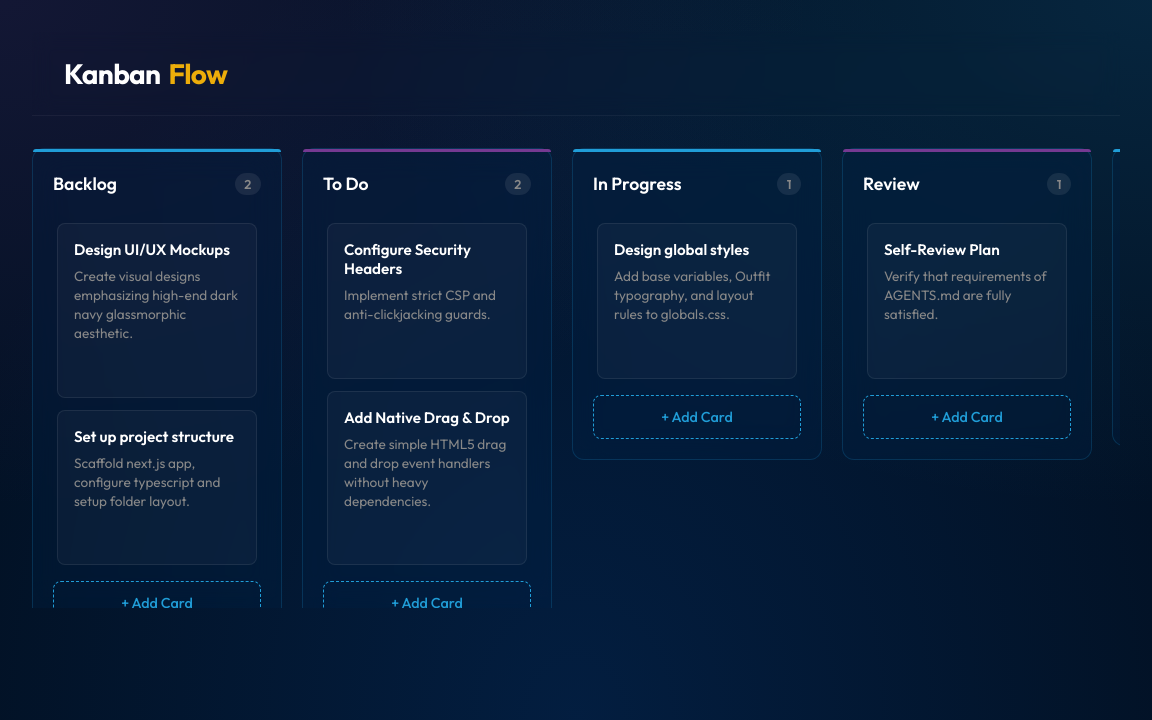
it: Kanban Board App › allows adding a new card to a column
This screenshot has width=1152, height=720.
Click the button "+ Add Card" below "Add Native Drag & Drop": (427, 603) x1=323 y1=581 x2=531 y2=625
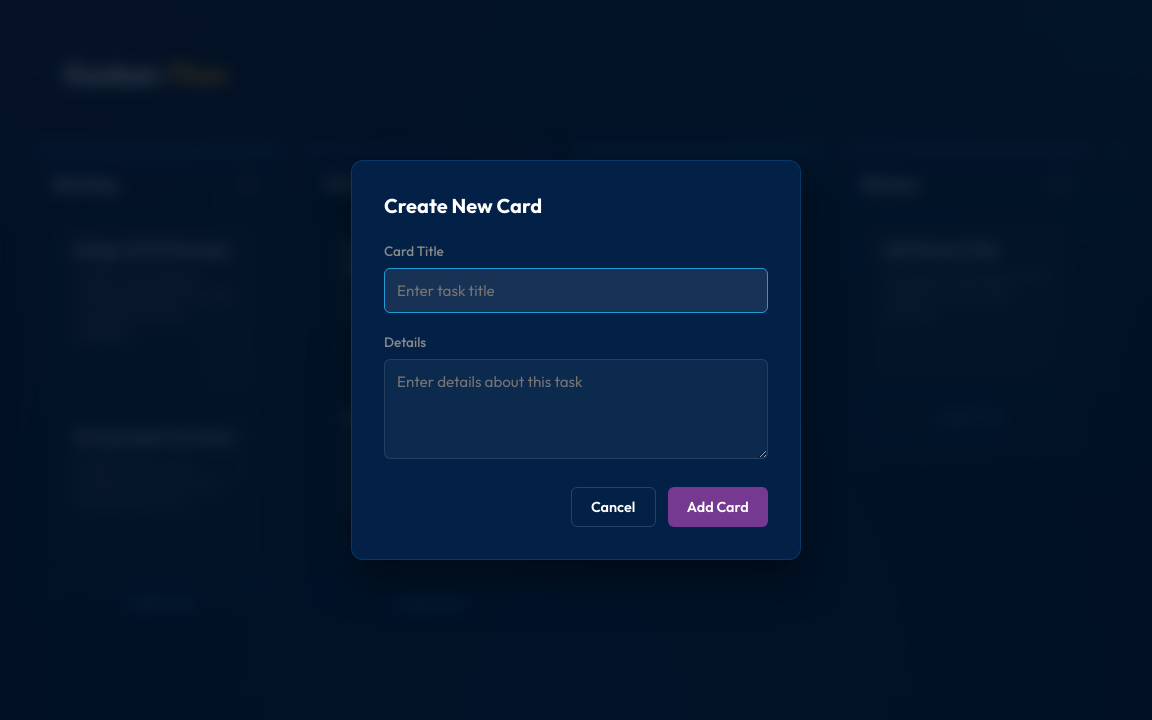
Expected: the heading "Create New Card" is shown, x1=384 y1=193 x2=542 y2=218
In the field labelled "Card Title": (576, 291) x1=384 y1=268 x2=768 y2=313, type "Verify Tests Run"
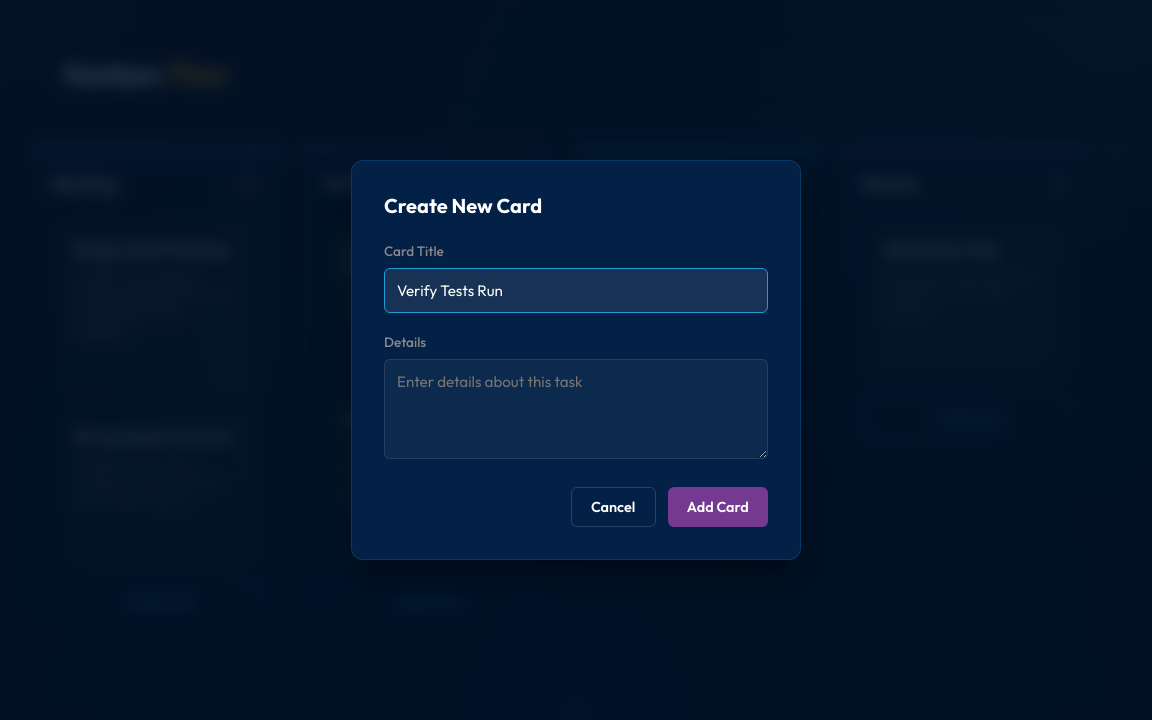
In the text box labelled "Details": (576, 409) x1=384 y1=359 x2=768 y2=459, type "Make sure all jest unit tests are passing."
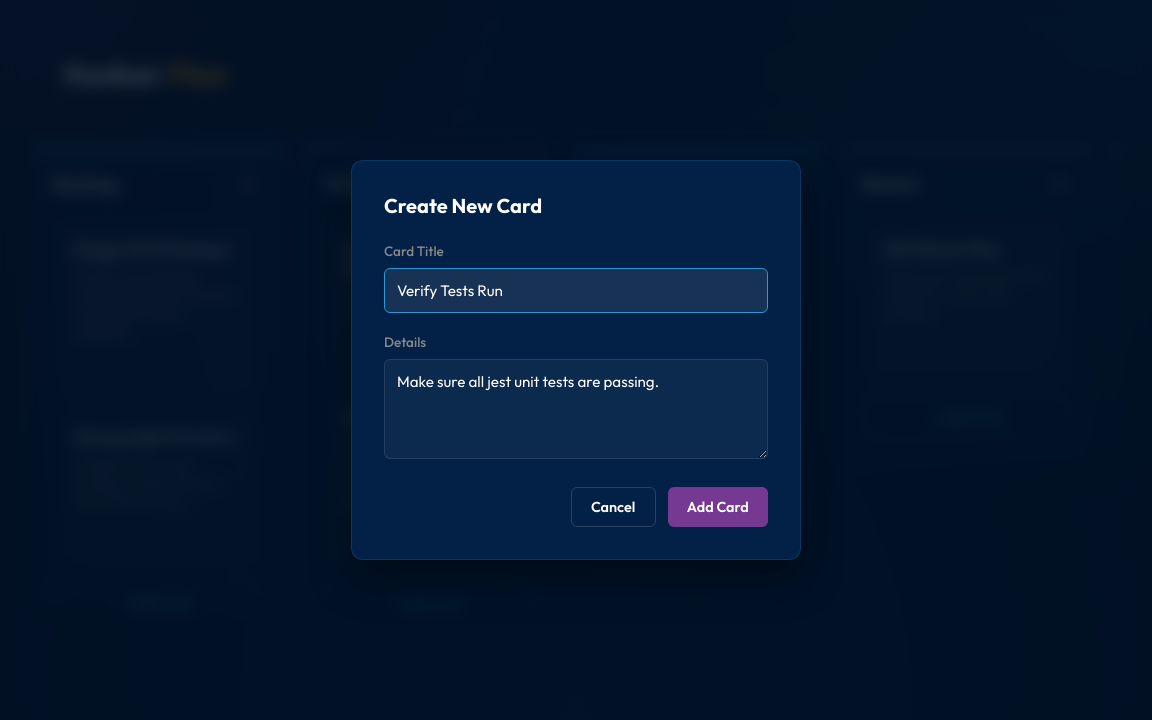
Click the button "Add Card": (718, 507) x1=668 y1=487 x2=768 y2=527
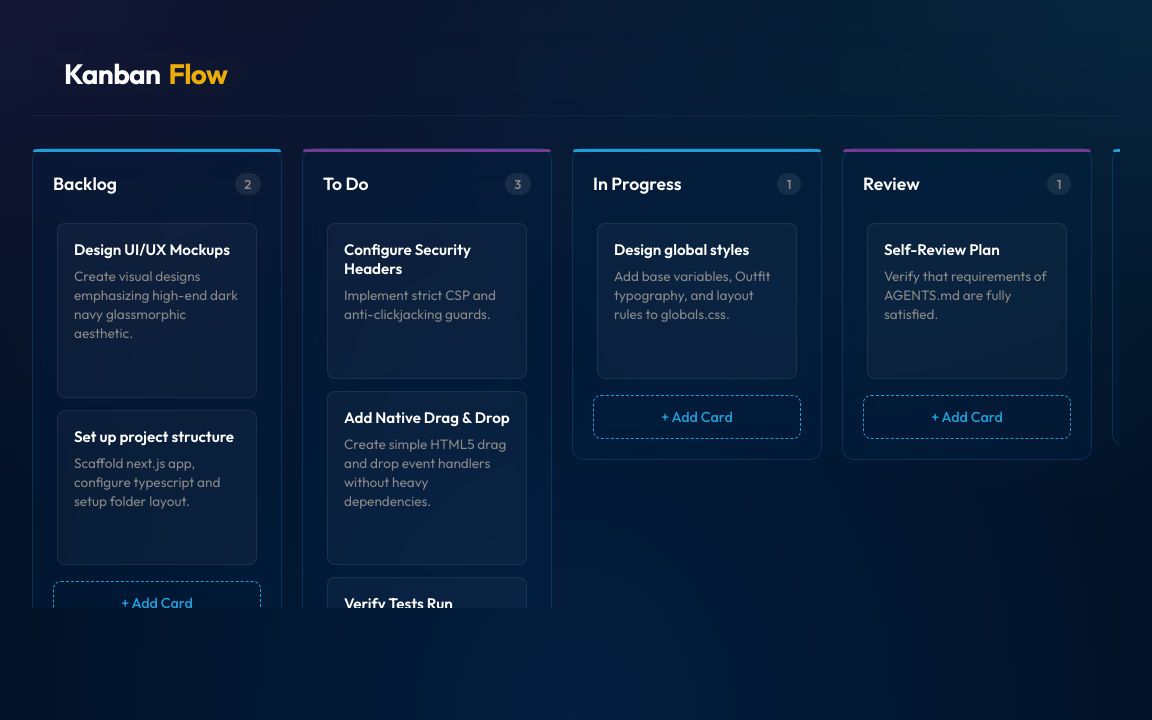
Expected: the heading "Create New Card" is gone
Expected: the heading "Verify Tests Run" is shown, x1=344 y1=594 x2=453 y2=608
